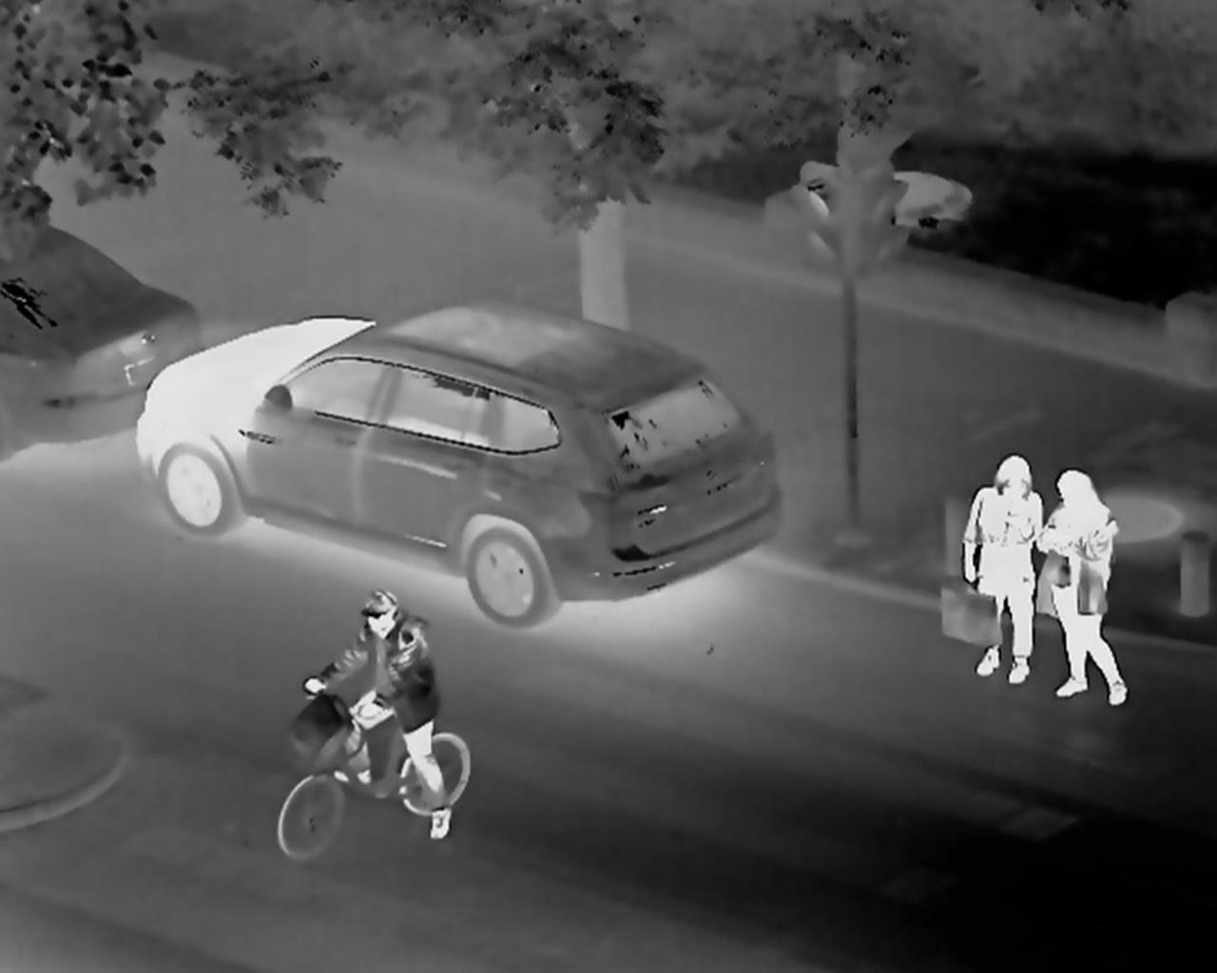person: (304, 567, 446, 754), (1040, 467, 1136, 690), (962, 447, 1022, 710)
